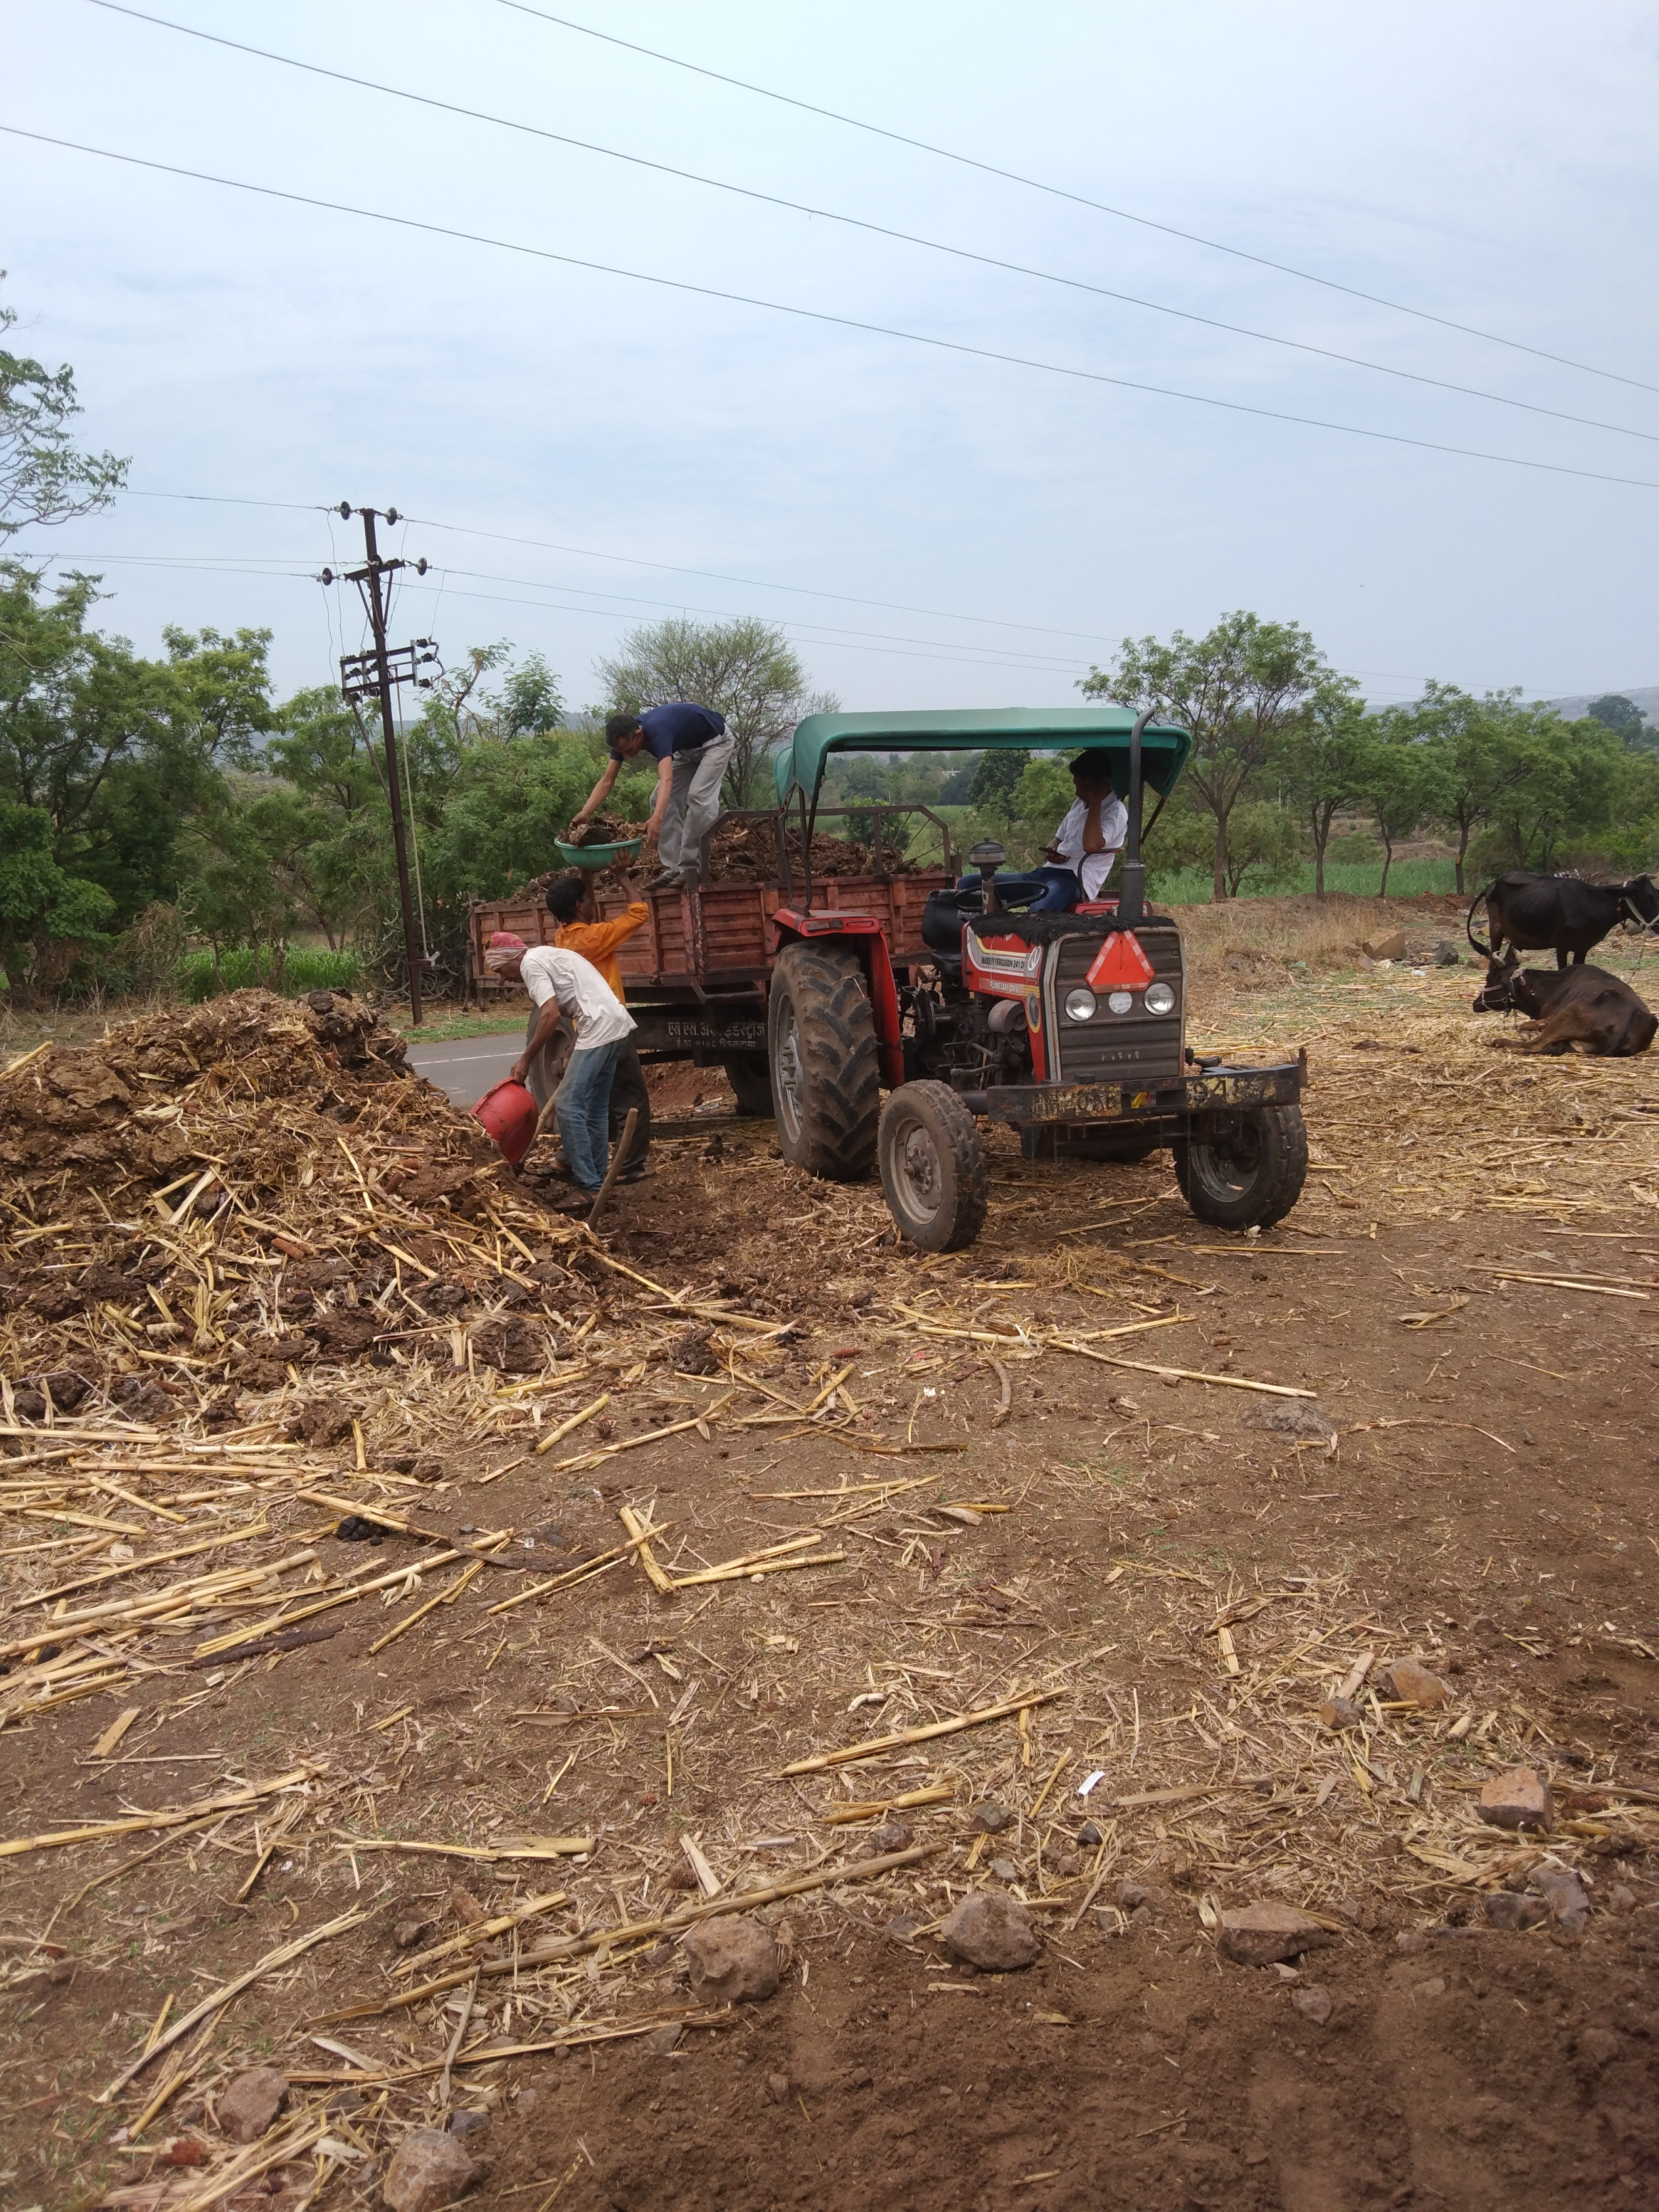tractor: (458, 700, 1317, 1258)
